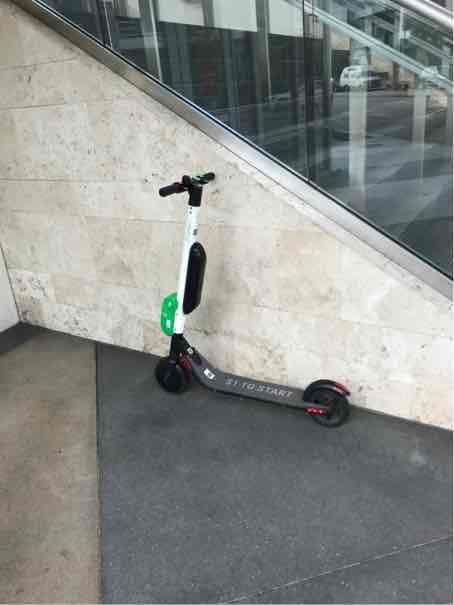scooter: (142, 156, 342, 425)
